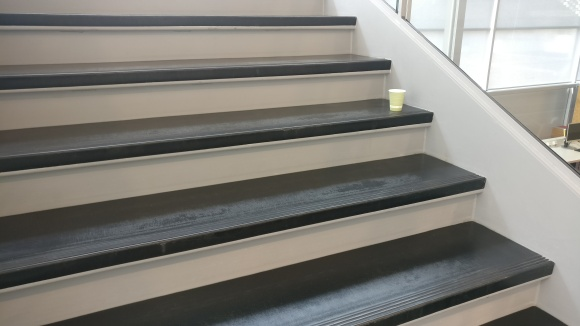cup: (387, 87, 406, 112)
